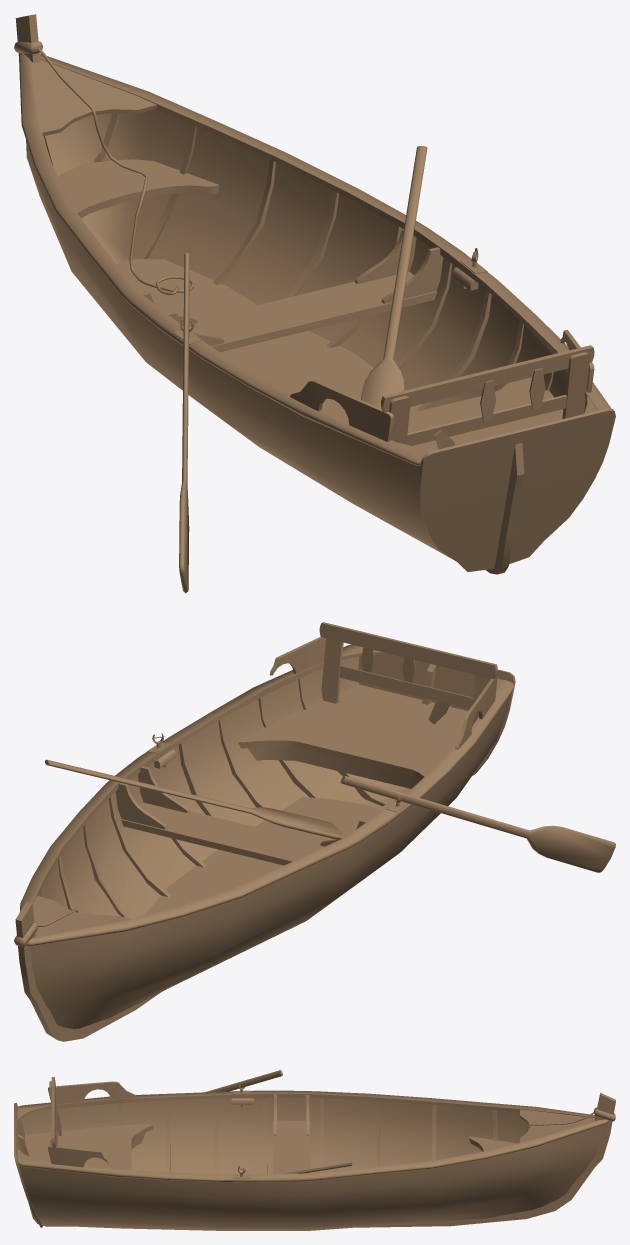
File: boat.glb
3 views of the same model, one above another, from view 1: azimuth 30°, elevation 25°; view 2: azimuth 150°, elevation 25°; view 3: azimuth 270°, elevation 25° (orthographic). The views are drawn at different scales.
Visible parts, largest first — view 1: Boat; view 2: Boat; view 3: Boat.
Boxes of the visible parts, x1=… form: Boat: x1=14, y1=14, x2=615, y2=593; Boat: x1=14, y1=622, x2=615, y2=1041; Boat: x1=14, y1=1070, x2=615, y2=1230.
Size of the model in its own units: 3.14 by 1.43 by 5.84.
